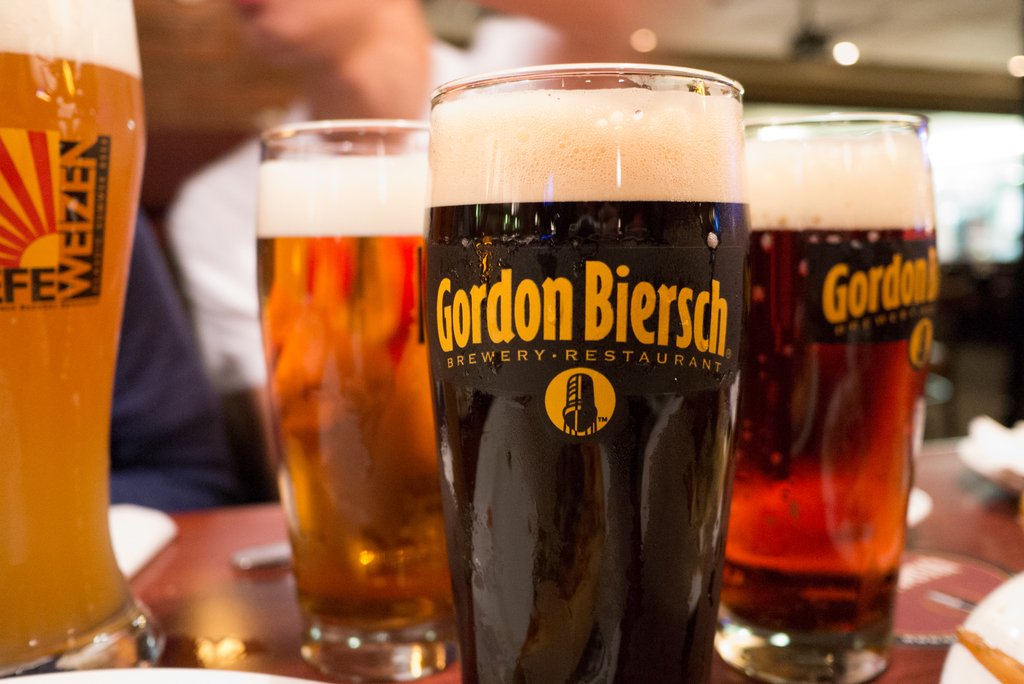Beer: (409, 83, 762, 684), (0, 0, 150, 672)
